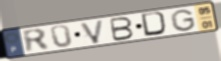0: (49, 24, 74, 49)
B: (109, 16, 136, 43)
D: (140, 10, 171, 37)
G: (169, 9, 198, 33)
R: (21, 28, 52, 54)
V: (79, 18, 106, 45)
